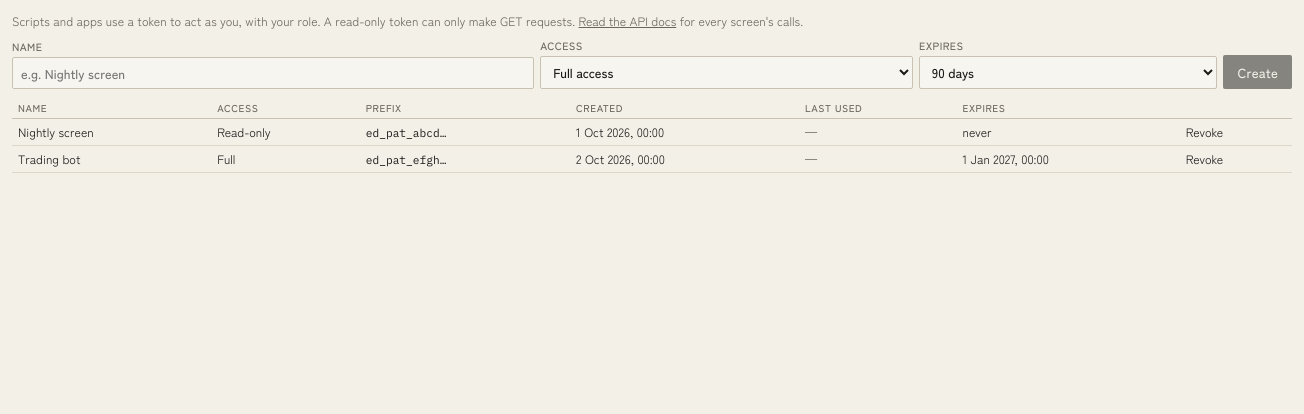
TokensSection › creates a read-only token that expires, then shows it once with a ready example
Check: the text "Nightly screen" is shown, box [12,118,211,146]
Type "  Reports  " into the field labelled "Name".
click(273, 73); type("  Reports  ")  # box [12,57,534,89]
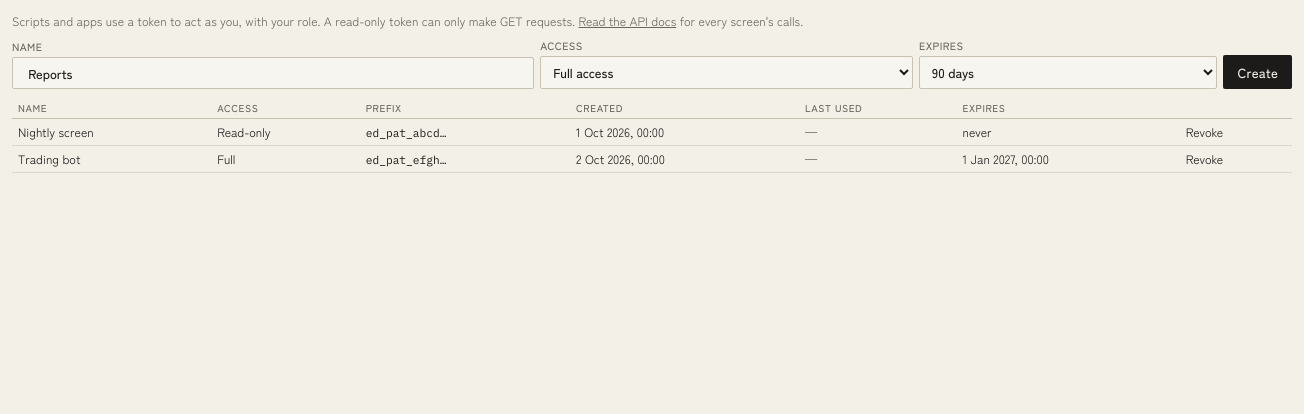
Select "Read-only" in the dropdown named "Token access" at {"x": 727, "y": 72}, box [540,56,913,89]
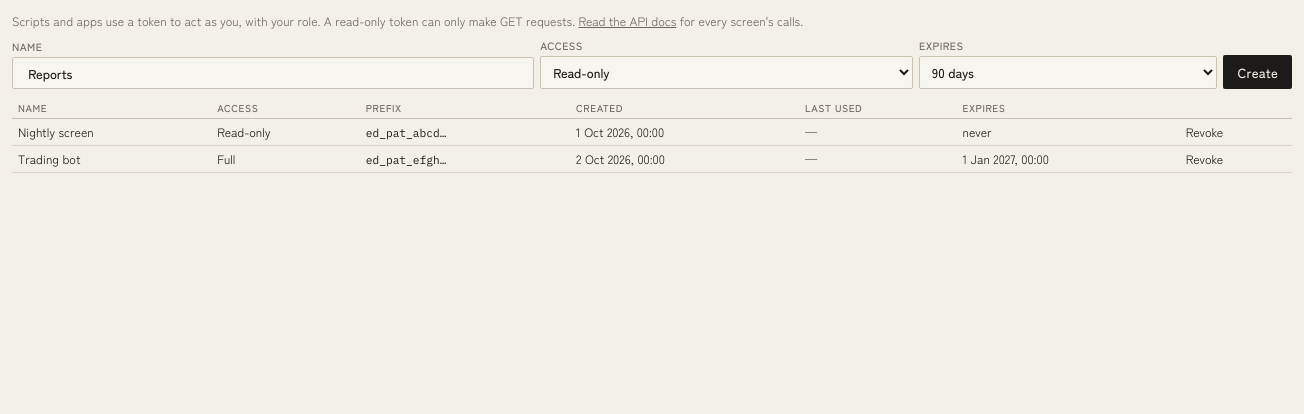
Select "30 days" in the dropdown named "Token expiry" at {"x": 1068, "y": 72}, box [919,56,1218,89]
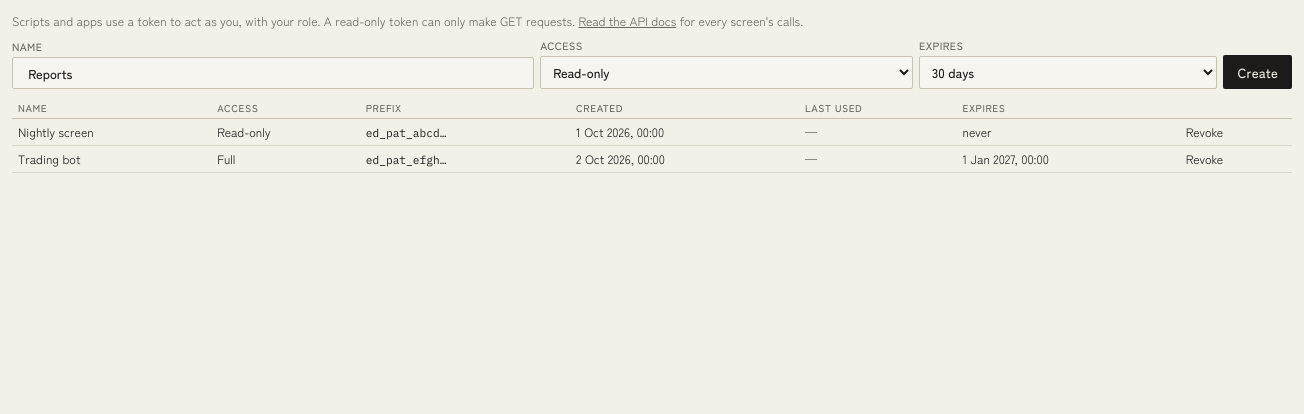
Click the button "Create".
click(1258, 72)  # box [1224,55,1292,89]
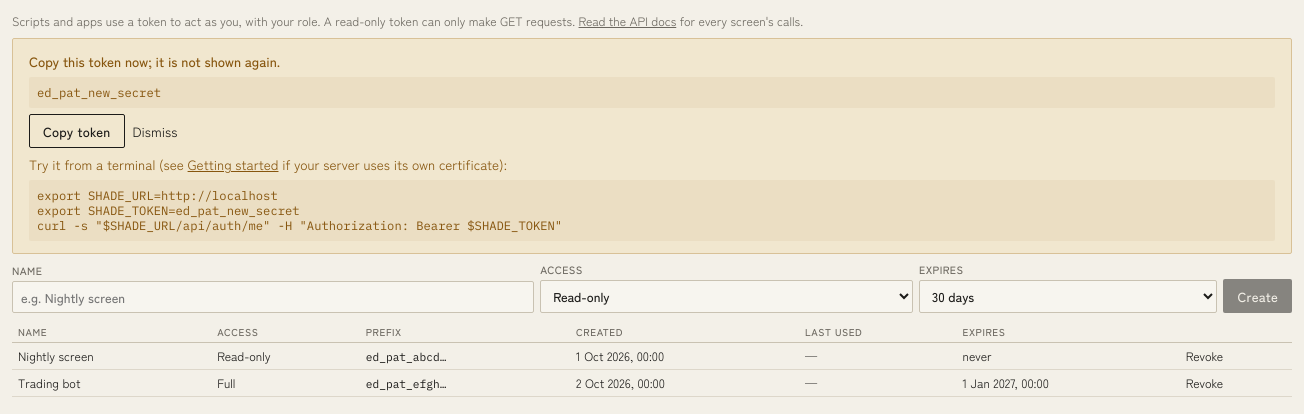
Check: the text "Copy this token now; it is not shown again." is shown, box [29,51,280,71]
Check: the text "ed_pat_new_secret" is shown, box [29,77,1275,108]
Check: the text "export SHADE_TOKEN=ed_pat_new_secret" shows "curl -s \"$SHADE_URL/api/auth/me\" -H \"Authorization: Bearer $SHADE_TOKEN\"", box [37,188,562,233]
Click the button "Copy token".
click(77, 131)  # box [29,114,125,148]
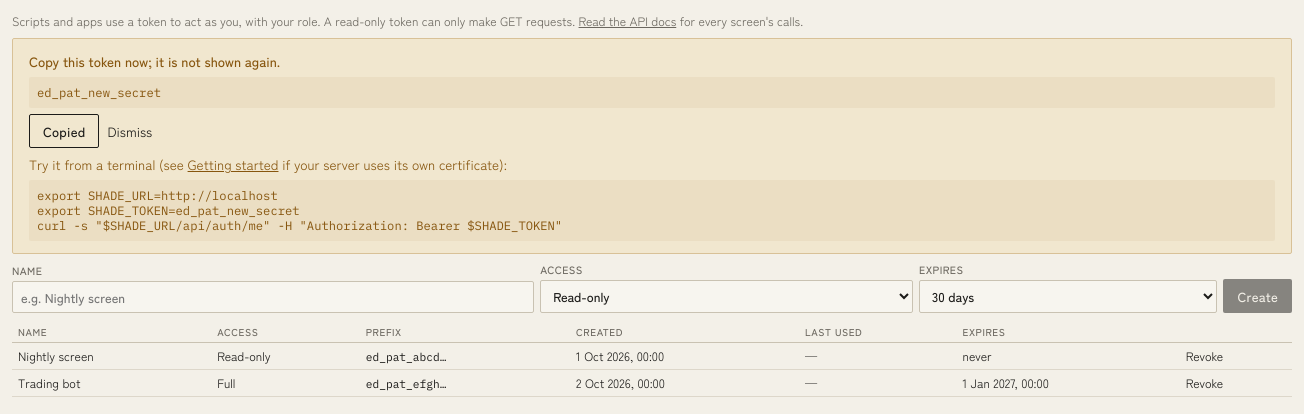
Check: the button "Copied" is shown, box [29,114,100,148]
